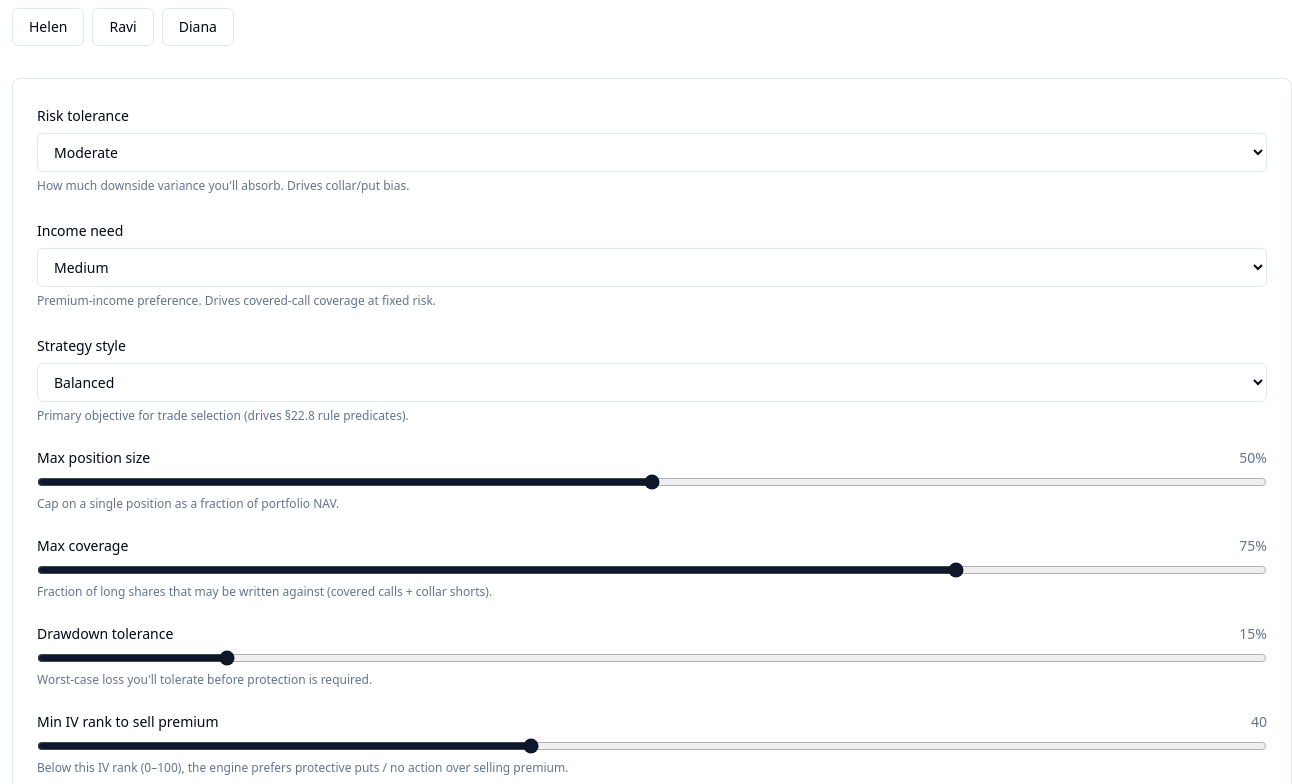
Test case: UserStrategyProfileForm › applies a persona preset into the form without saving
Click the button with test id "persona-ravi" at (123,27), box 92,8 -> 154,46
(page scrolled)
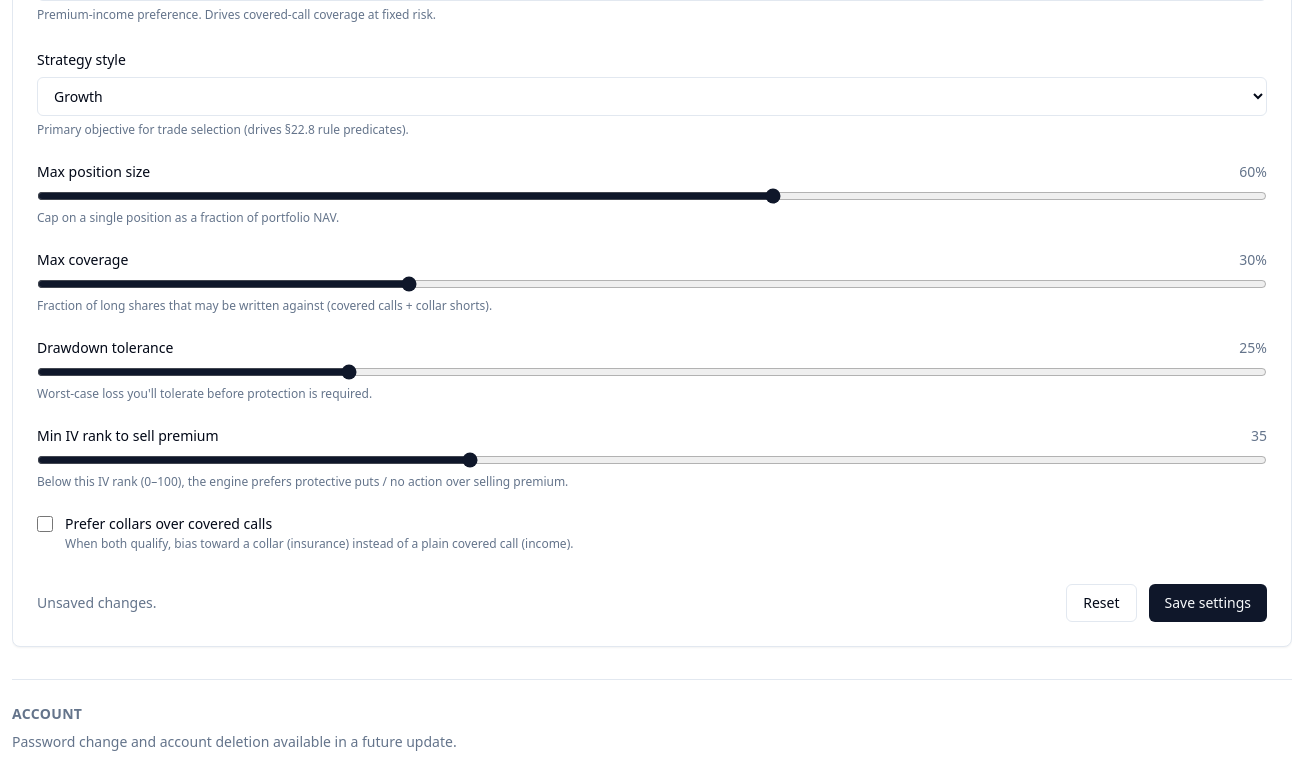
Expected: the dropdown with test id "field-style" shows "Growth", 37,77 -> 1267,116
Expected: the slider with test id "field-max_coverage_pct" holds "0.3", 37,276 -> 1267,292
Expected: the button with test id "save-button" is enabled, 1148,584 -> 1267,622
